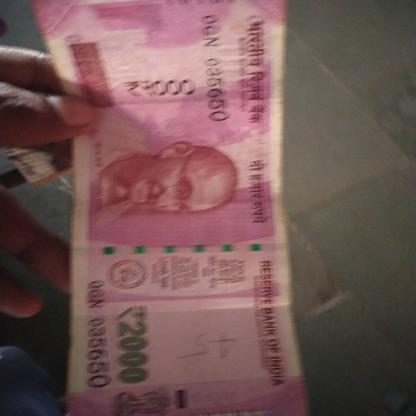New2000Front: (55, 0, 289, 416)
